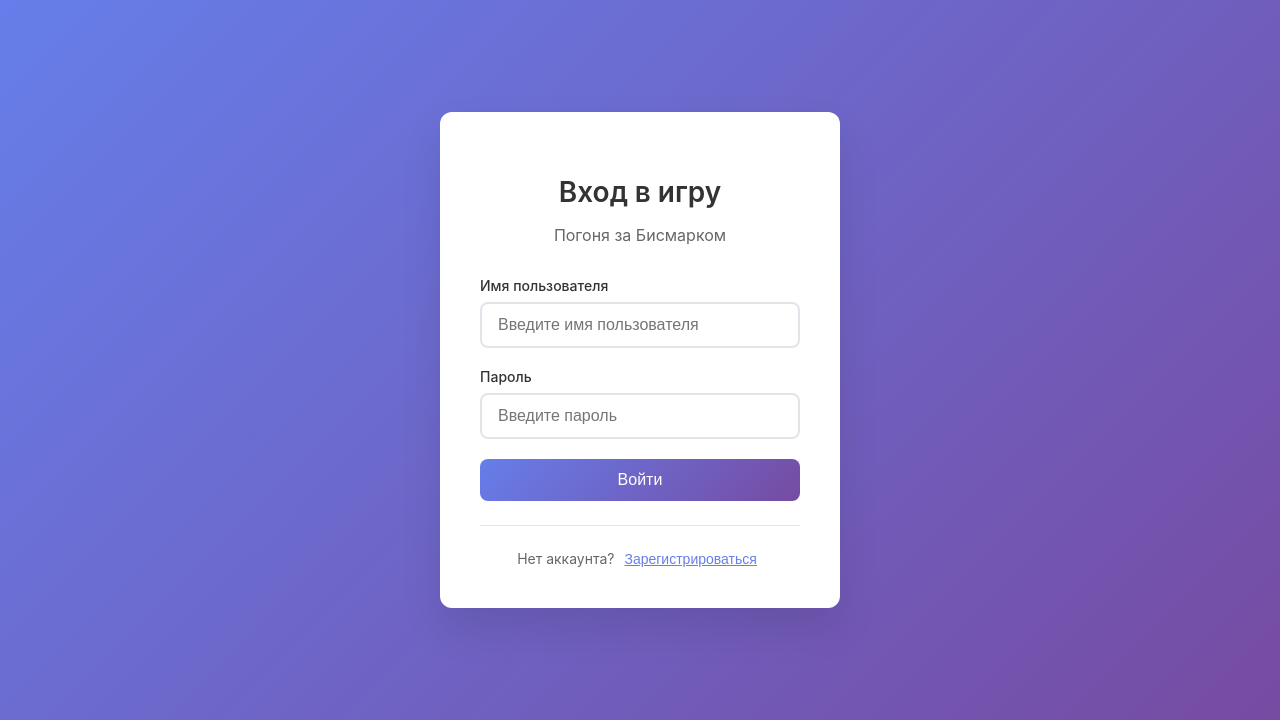
Scenario: LoginForm › Validation › should show error when password is empty
This screenshot has width=1280, height=720.
In the field labelled "Имя пользователя": (640, 325) 480,302 -> 800,348, type "testuser"
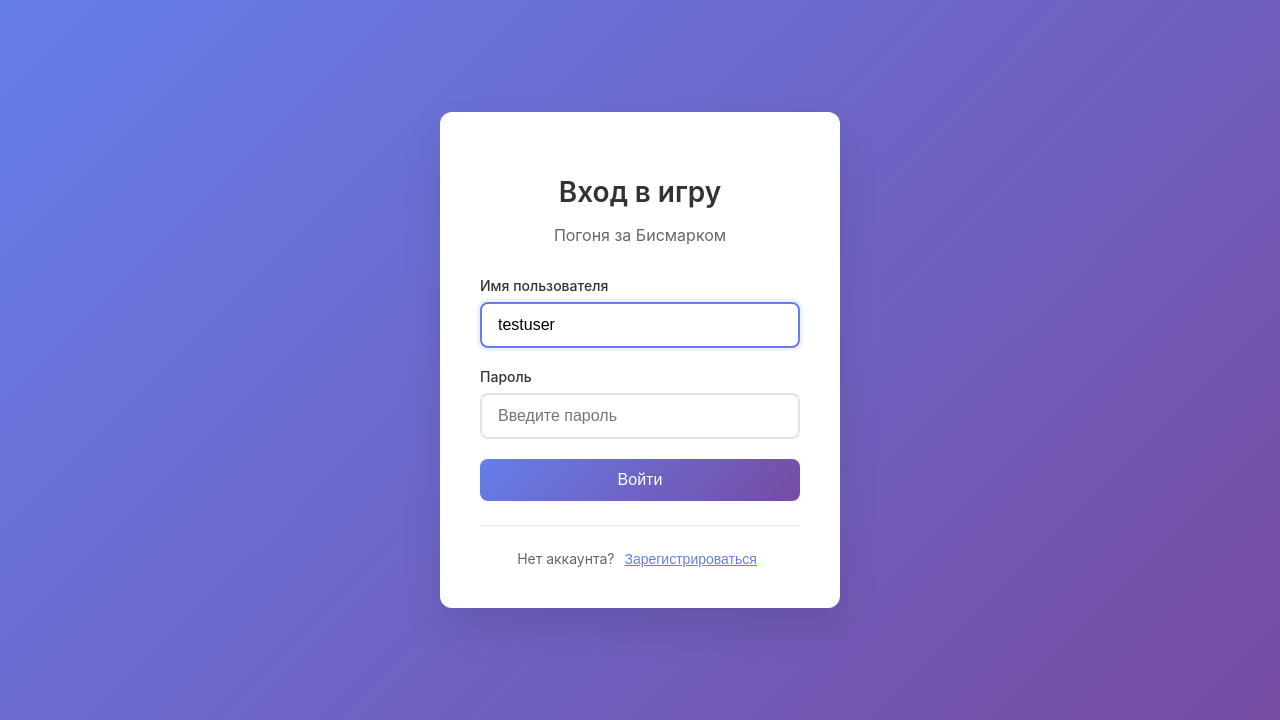
Click the button "Войти": (640, 480) 480,459 -> 800,501
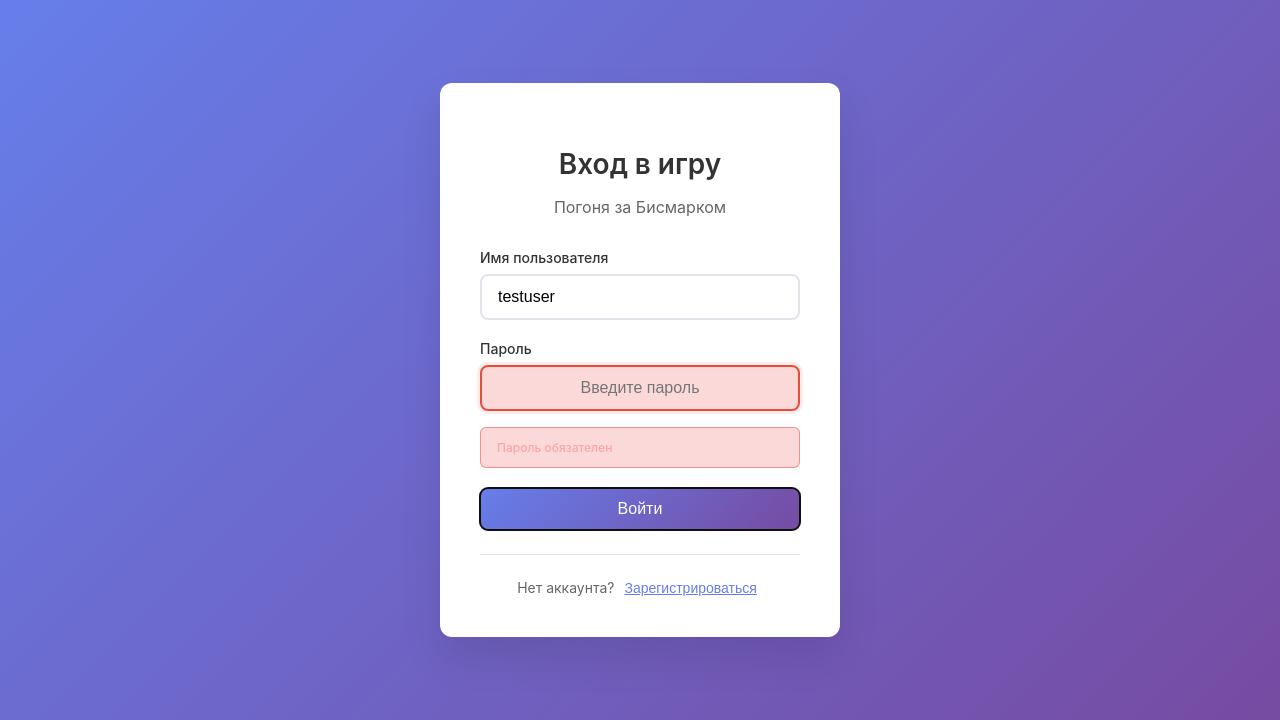
Expected: the text "Пароль обязателен" is shown, 480,427 -> 800,468
